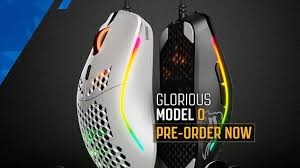mouse: (154, 12, 238, 168), (78, 10, 158, 168)
